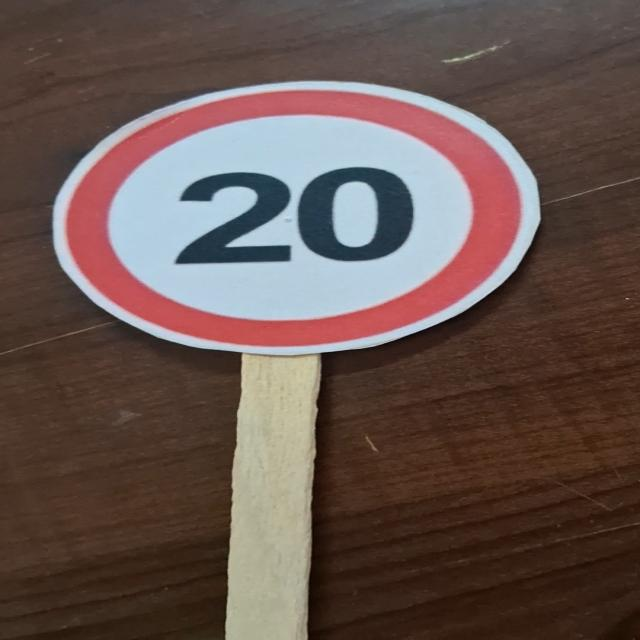Speed20: (32, 71, 544, 362)
